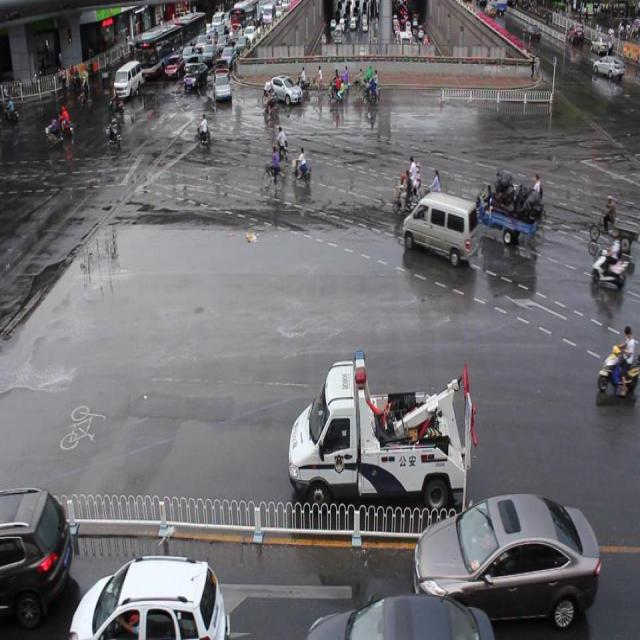bus: (287, 352, 473, 518)
car: (412, 494, 600, 627), (71, 553, 227, 640), (1, 485, 75, 622), (306, 594, 491, 640), (264, 75, 302, 103), (211, 68, 233, 104)
truck: (402, 191, 478, 265)
